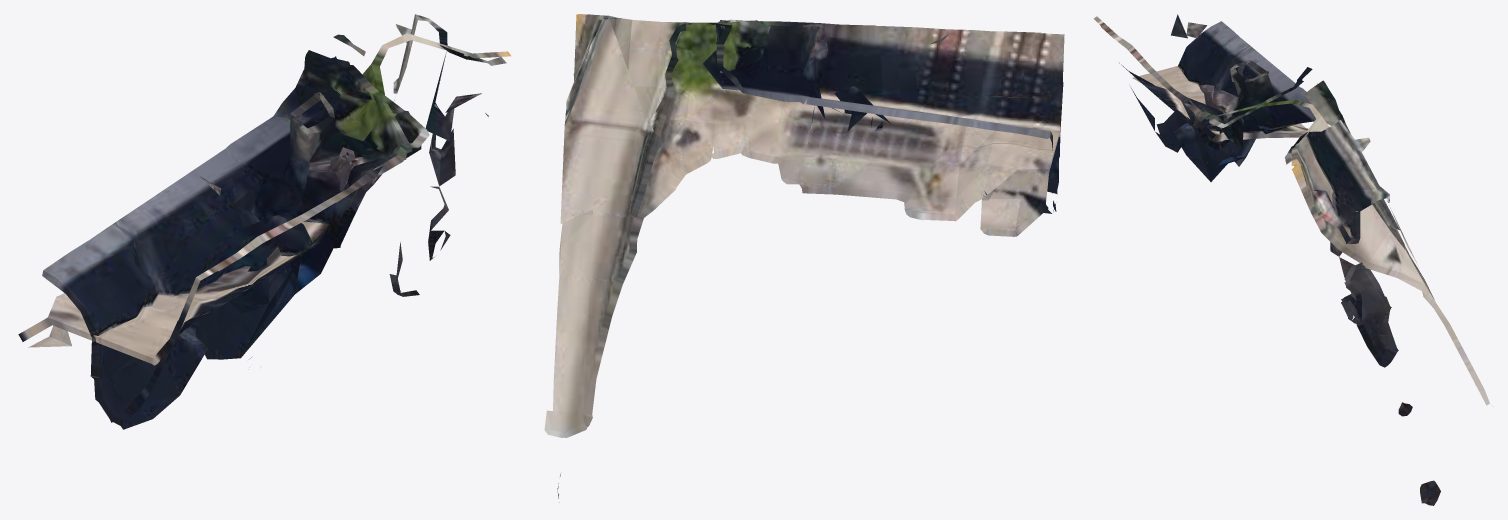
File: AJVsH2yWqFBdUauZL8uJIreCfVJzcsyRxlh2LmJoOrBs_pjhWK3BJFykQdWe7CGMlvQt7SQD8xCgg-_XmDkWr0uXfIESNnDNZNCipS0oibR36MVmA87xDd55df5cL8Rty0fDzHFEfT1NYHHK1PkuenH7hMzd.glb
The picture shows the model from 3 angles, left to right: view 1: azimuth 30°, elevation 25°; view 2: azimuth 150°, elevation 25°; view 3: azimuth 270°, elevation 25°; orthographic projection. The views are drawn at different scales.
Size of the model in its own units: 37.29 by 36.27 by 33.21.
1 material, 1 textured.
